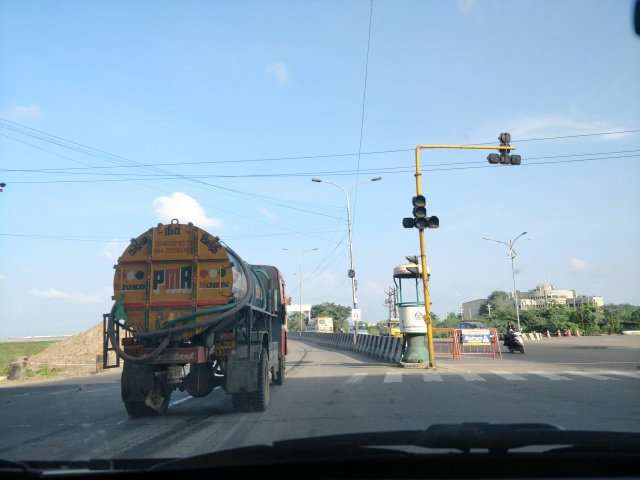car: (456, 317, 498, 344)
motorbike: (503, 319, 528, 358)
truck: (98, 217, 304, 422), (375, 319, 409, 344), (303, 316, 336, 336)
